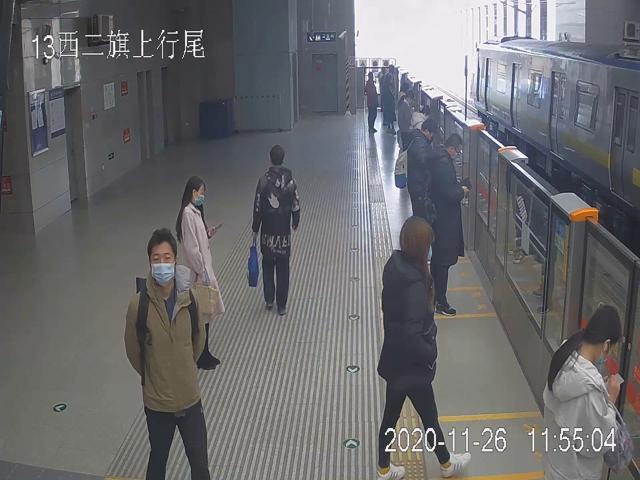person: (376, 214, 471, 480), (124, 227, 209, 480), (543, 304, 620, 480), (176, 176, 220, 370), (252, 145, 301, 316), (425, 133, 468, 315)
